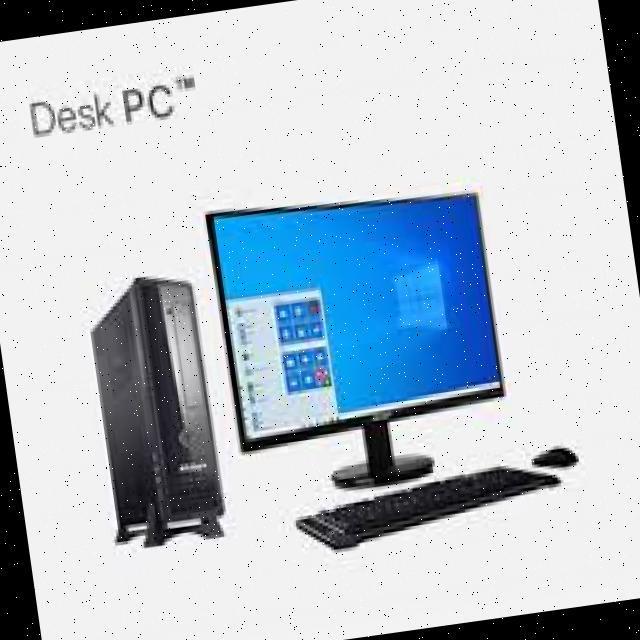Computer: (72, 267, 244, 562)
Monitor: (192, 152, 538, 472)
